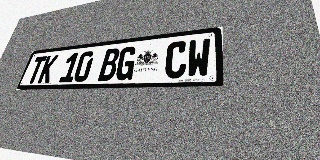0: (72, 51, 95, 82)
1: (59, 52, 81, 83)
B: (97, 48, 121, 81)
C: (164, 40, 188, 79)
G: (114, 46, 138, 81)
K: (37, 55, 59, 83)
T: (26, 56, 47, 84)
W: (186, 38, 211, 78)
